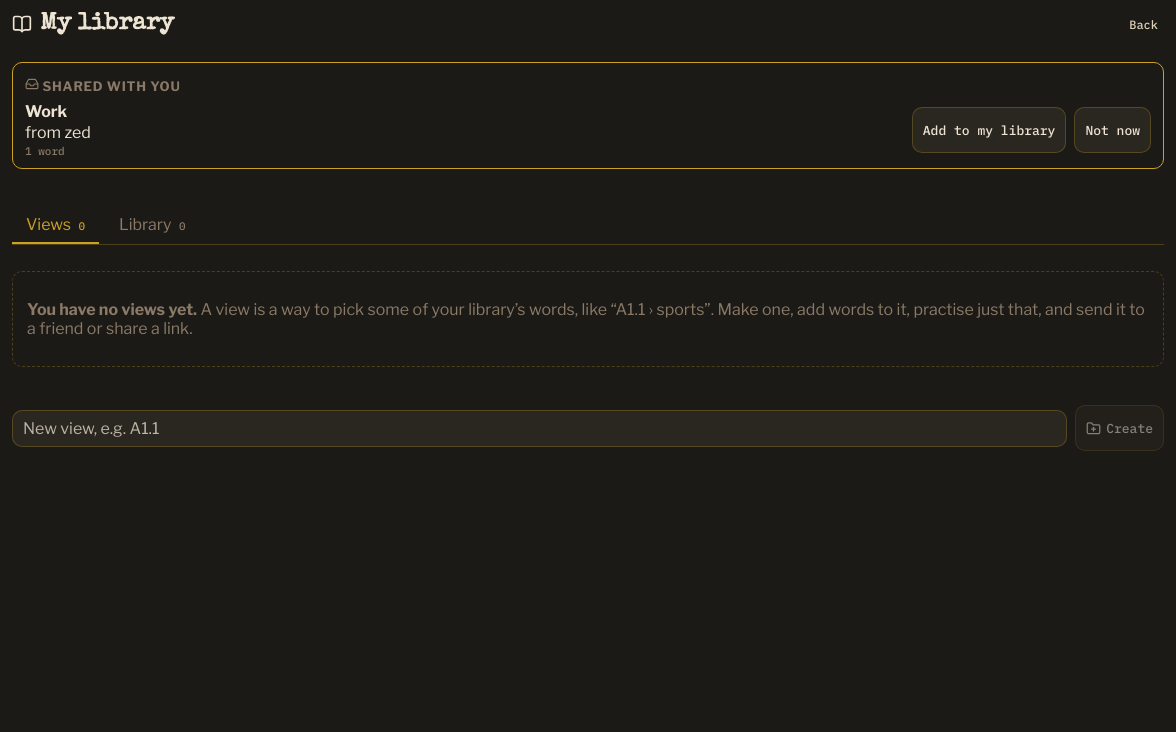
Test: LibraryPage › shows what friends shared and takes it
Expected: the element with class "lib-inbox" shows "from zed", top-left (12, 62), bottom-right (1164, 169)
Click the button "Add to my library". click: (989, 130)
box: top-left (912, 107), bottom-right (1066, 153)
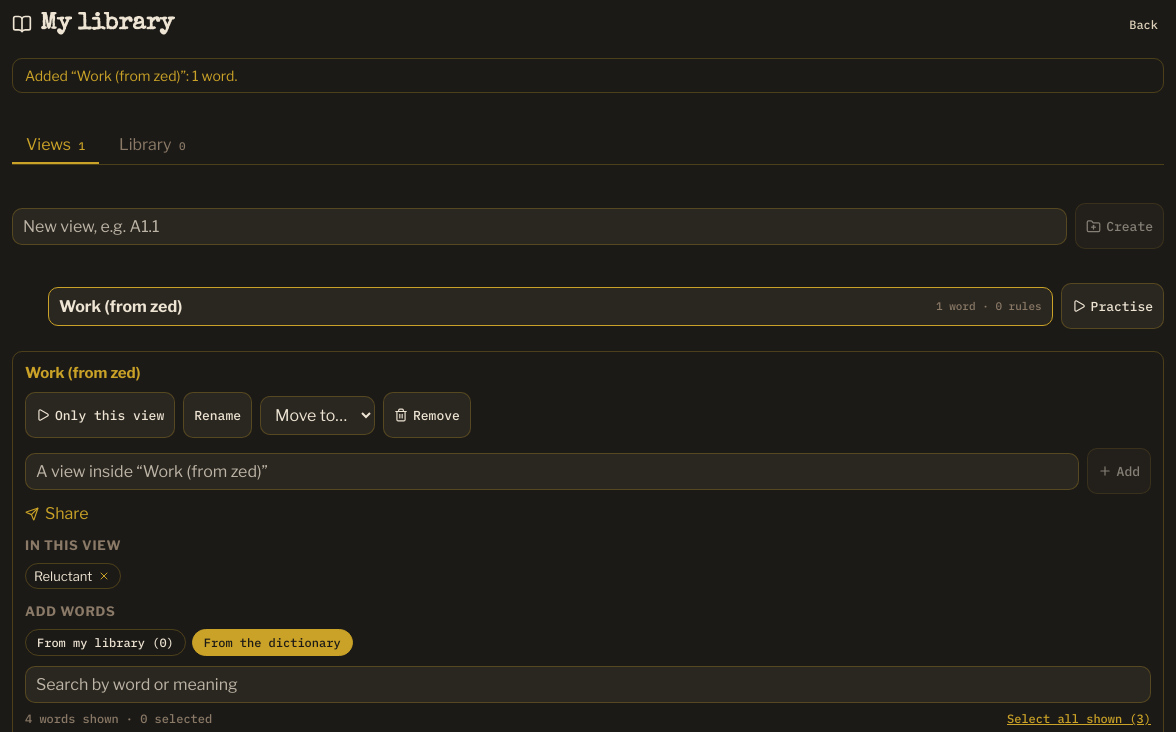
Expected: the element with class "lib-inbox" is gone
Expected: the list with class "lib-tree" shows "Work (from zed)", top-left (48, 286), bottom-right (1053, 326)
Expected: the message with class "lib-notice" reads "Added “Work (from zed)”: 1 word.", top-left (25, 67), bottom-right (237, 84)
